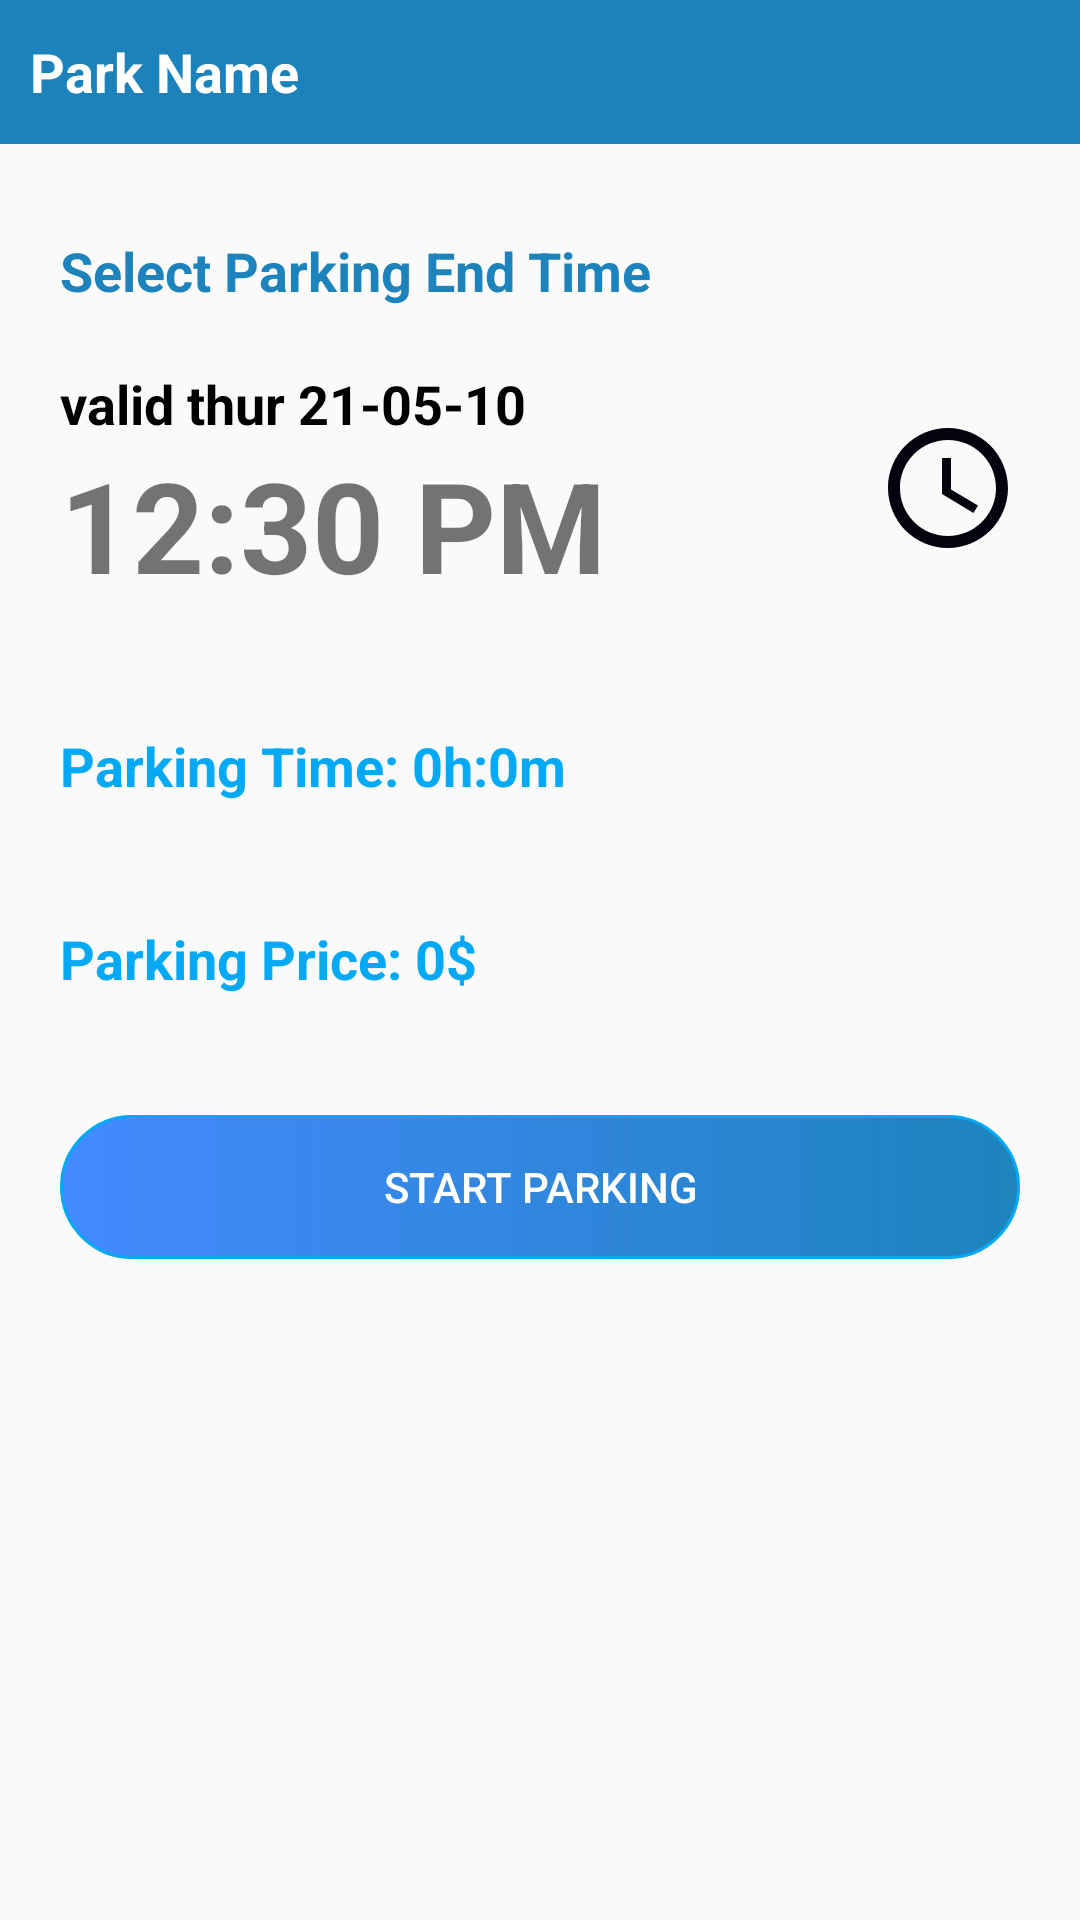

Point at icon controls on the screen. Image size 1080×1920, points as (x,y).
access time: (948,488)
